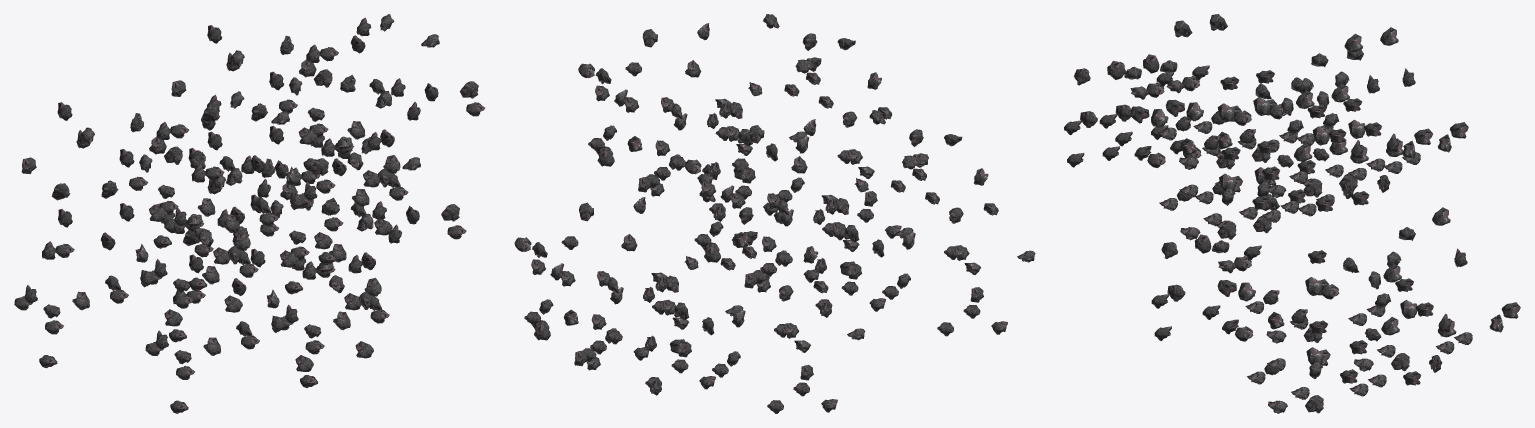
File: aster.dae
The picture shows the model from 3 angles, left to right: view 1: azimuth 30°, elevation 25°; view 2: azimuth 150°, elevation 25°; view 3: azimuth 270°, elevation 25°; orthographic projection. The views are drawn at different scales.
Bounding box in the file's own units: 2385 × 1981 × 1735.
Materials: 3 (2 with a texture image).
